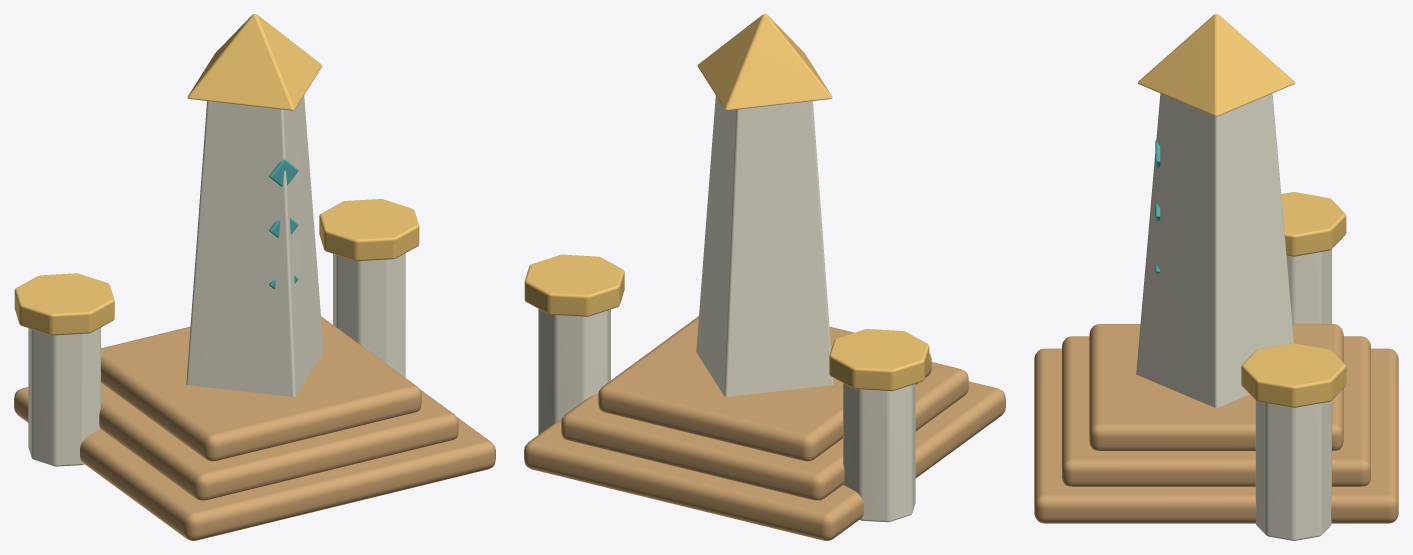
File: Decor_Desert.fbx
The picture shows the model from 3 angles, left to right: view 1: azimuth 30°, elevation 25°; view 2: azimuth 150°, elevation 25°; view 3: azimuth 270°, elevation 25°; orthographic projection.
Parts seen in each view (by area): view 1: Obelisk, Temple step.002, Temple step, Temple step.001, Broken column, Golden pyramid, Broken column.001, Column capital, Column capital.001; view 2: Obelisk, Temple step, Temple step.002, Temple step.001, Broken column, Golden pyramid, Broken column.001, Column capital.001, Column capital; view 3: Obelisk, Temple step, Temple step.002, Temple step.001, Broken column.001, Golden pyramid, Column capital.001, Column capital, Broken column.
Boxes of the visible parts, x1,y1,x2,y2 form: Obelisk: (186, 95, 323, 396); Temple step.002: (101, 316, 421, 461); Temple step: (14, 387, 495, 540); Temple step.001: (99, 383, 458, 500); Broken column: (28, 327, 100, 466); Golden pyramid: (187, 14, 322, 110); Broken column.001: (333, 253, 405, 377); Column capital: (14, 273, 114, 335); Column capital.001: (319, 199, 419, 261); Obelisk: (696, 95, 833, 396); Temple step: (524, 381, 1005, 540); Temple step.002: (598, 316, 931, 461); Temple step.001: (561, 362, 968, 500); Broken column: (843, 383, 915, 522); Golden pyramid: (697, 14, 832, 110); Broken column.001: (538, 309, 610, 434); Column capital.001: (524, 254, 624, 316); Column capital: (829, 329, 929, 391); Obelisk: (1136, 93, 1293, 407); Temple step: (1034, 348, 1398, 523); Temple step.002: (1089, 324, 1343, 450); Temple step.001: (1062, 336, 1370, 486); Broken column.001: (1255, 400, 1331, 540); Golden pyramid: (1138, 14, 1294, 116); Column capital.001: (1241, 343, 1346, 407); Column capital: (1281, 192, 1346, 256); Broken column: (1286, 249, 1331, 323).
Size of the model in its own units: 419 by 435 by 330.
